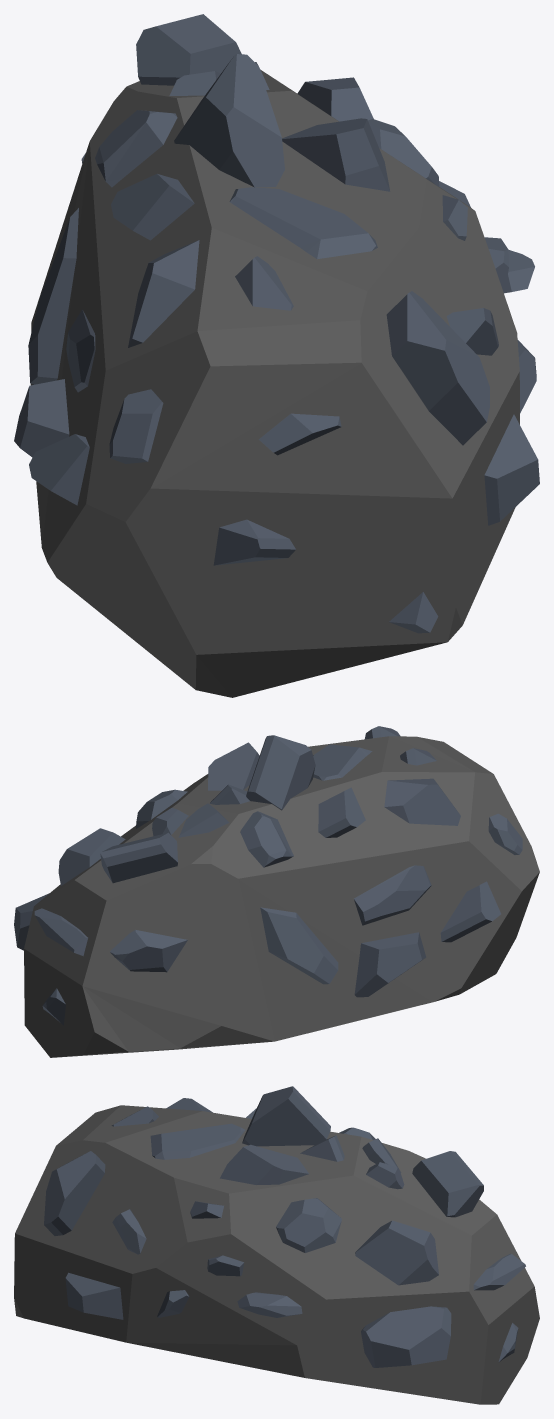
The model's file is Metal_Deposit_A_UVs.fbx.
The picture shows the model from 3 angles, top to bottom: view 1: azimuth 30°, elevation 25°; view 2: azimuth 150°, elevation 25°; view 3: azimuth 270°, elevation 25°; orthographic projection. The views are drawn at different scales.
Parts seen in each view (by area): view 1: SM_Metal_A; view 2: SM_Metal_A; view 3: SM_Metal_A.
Boxes of the visible parts, x1,y1,x2,y2 form: SM_Metal_A: (14, 14, 539, 697); SM_Metal_A: (14, 726, 539, 1057); SM_Metal_A: (14, 1086, 539, 1404).
Size of the model in its own units: 263 by 196 by 336.
